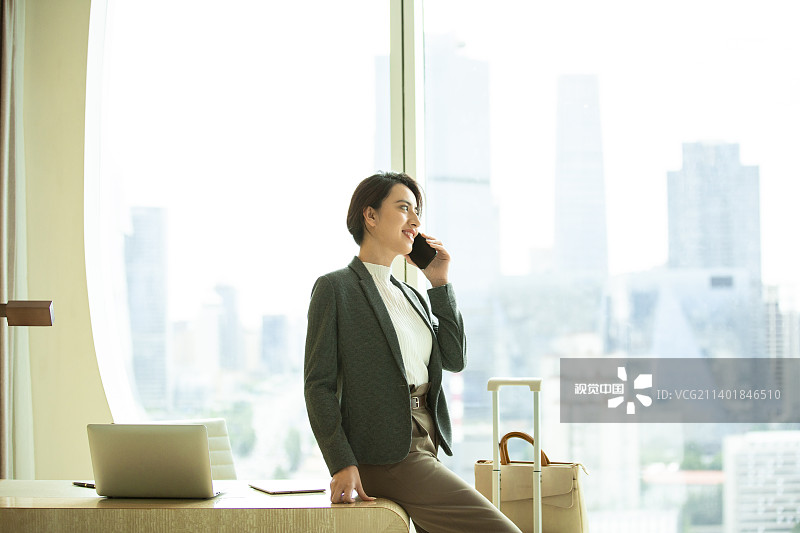calling: (403, 229, 454, 288)
no-phone: (313, 465, 379, 506)
